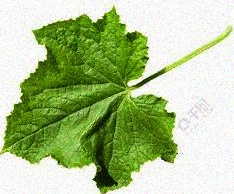cucumber_plant: (5, 15, 233, 190)
